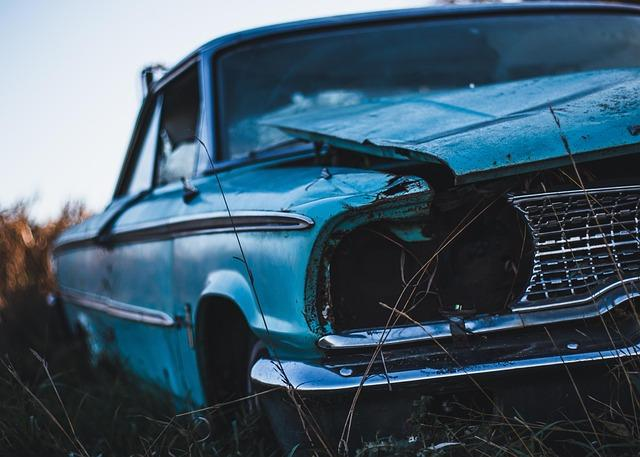Non_Gorille: (5, 2, 639, 457)
